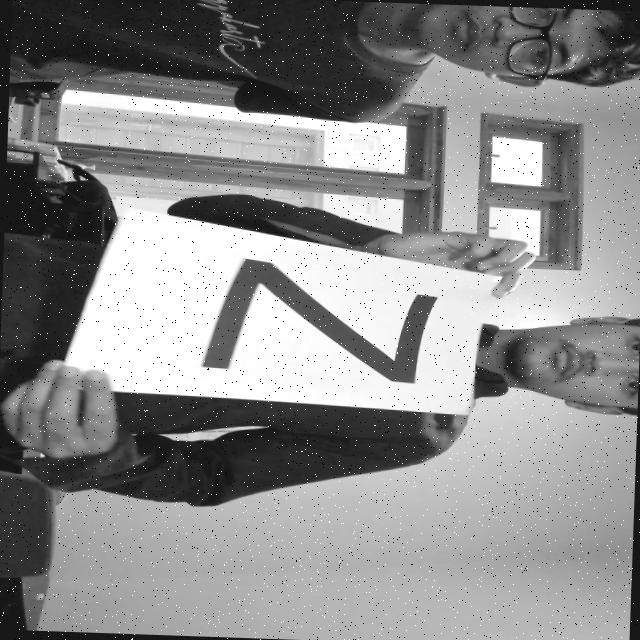z: (169, 244, 464, 410)
